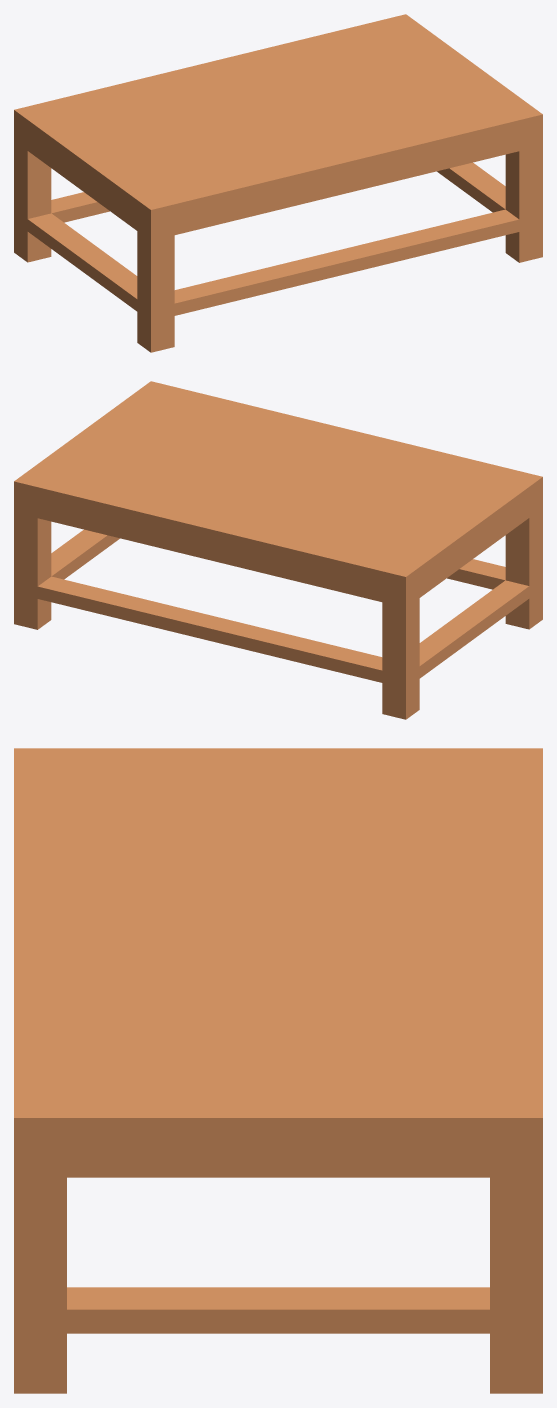
The model's file is tableCoffee.glb.
The picture shows the model from 3 angles, top to bottom: view 1: azimuth 30°, elevation 25°; view 2: azimuth 150°, elevation 25°; view 3: azimuth 270°, elevation 25°; orthographic projection. The views are drawn at different scales.
Visible parts, largest first — view 1: tableCoffee; view 2: tableCoffee; view 3: tableCoffee.
Part boxes in pixels (<box>): tableCoffee: <box>14,14,542,352</box>; tableCoffee: <box>14,381,542,719</box>; tableCoffee: <box>14,748,542,1393</box>.
Size of the model in its own units: 1.52 by 0.5278 by 0.918.
